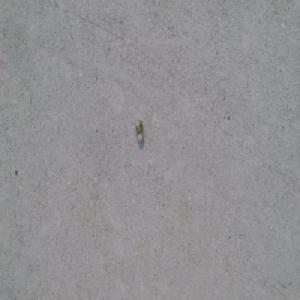BoltNutSet: (133, 121, 143, 144)
